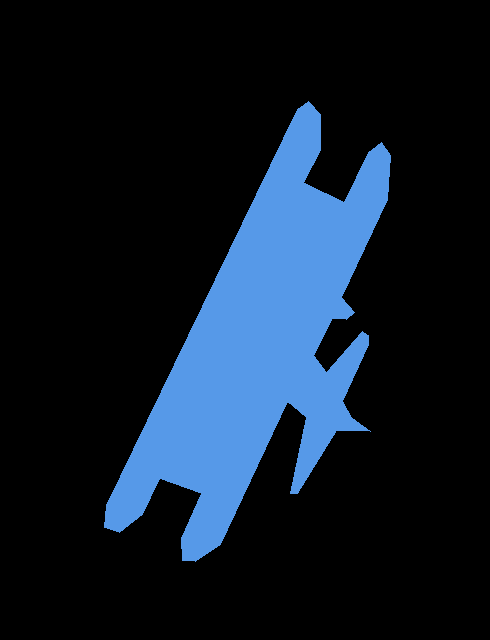Airplane: (104, 101, 390, 561)
